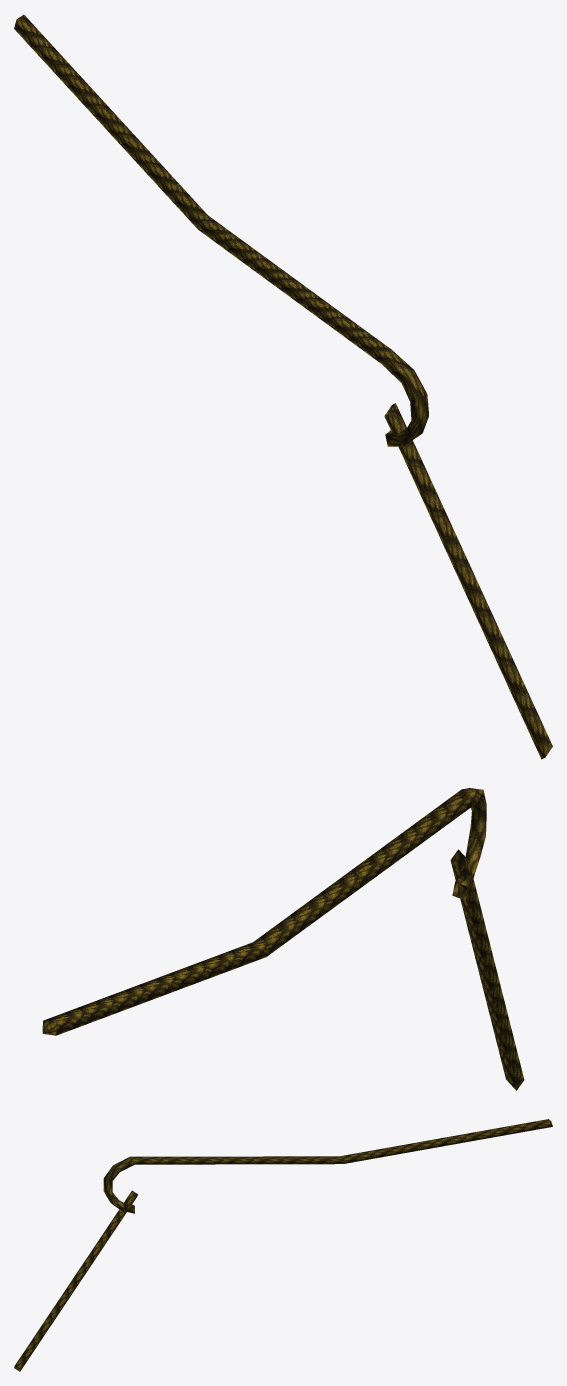
The model's file is EVT_OC_MAINGATE01_03.glb.
3 renders of one model, top to bottom at view 1: azimuth 30°, elevation 25°; view 2: azimuth 150°, elevation 25°; view 3: azimuth 270°, elevation 25°, orthographic. The views are drawn at different scales.
Parts seen in each view (by area): view 1: Mesh; view 2: Mesh; view 3: Mesh.
Part boxes in pixels (bbox=[...]): Mesh: bbox=[14, 14, 552, 759]; Mesh: bbox=[42, 788, 524, 1090]; Mesh: bbox=[14, 1119, 552, 1371].
Size of the model in its own units: 0.7073 by 3.99 by 8.24.
1 material, 1 textured.
